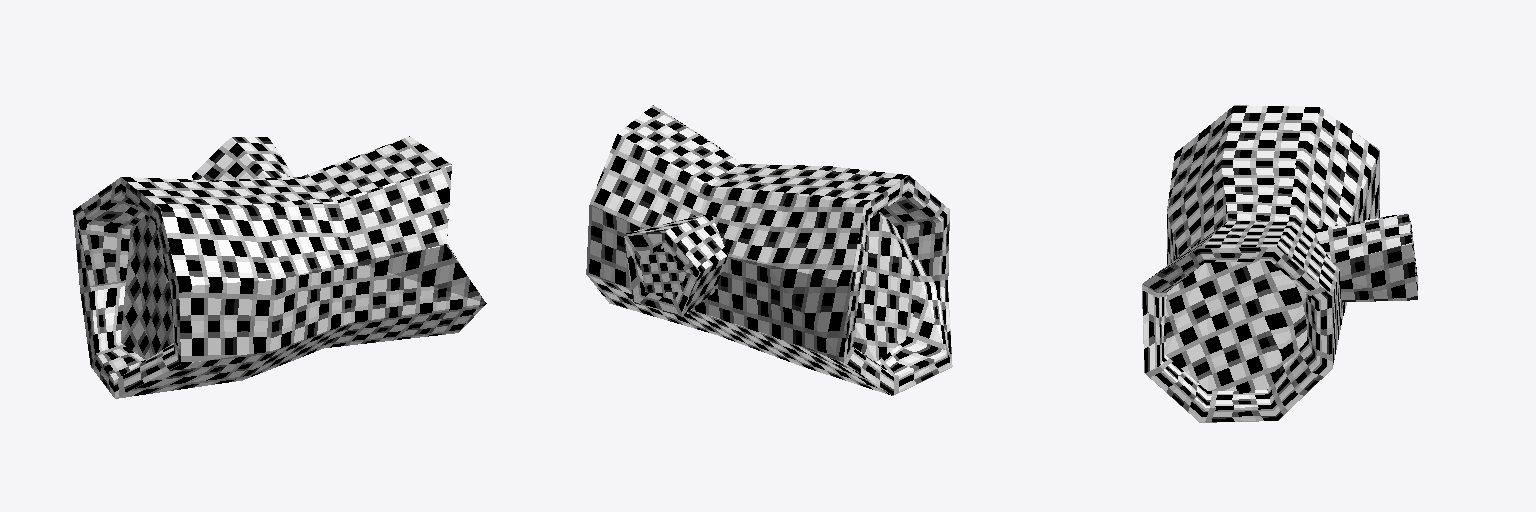
3 renders of one model, left to right at view 1: azimuth 30°, elevation 25°; view 2: azimuth 150°, elevation 25°; view 3: azimuth 270°, elevation 25°, orthographic.
Visible parts, largest first — view 1: Tronco_01; view 2: Tronco_01; view 3: Tronco_01.
Boxes of the visible parts, <box> form: Tronco_01: <box>73,136,486,398</box>; Tronco_01: <box>586,105,952,395</box>; Tronco_01: <box>1142,105,1417,422</box>.
Size of the model in its own units: 22.16 by 12.09 by 16.29.
1 materials, 1 textured.